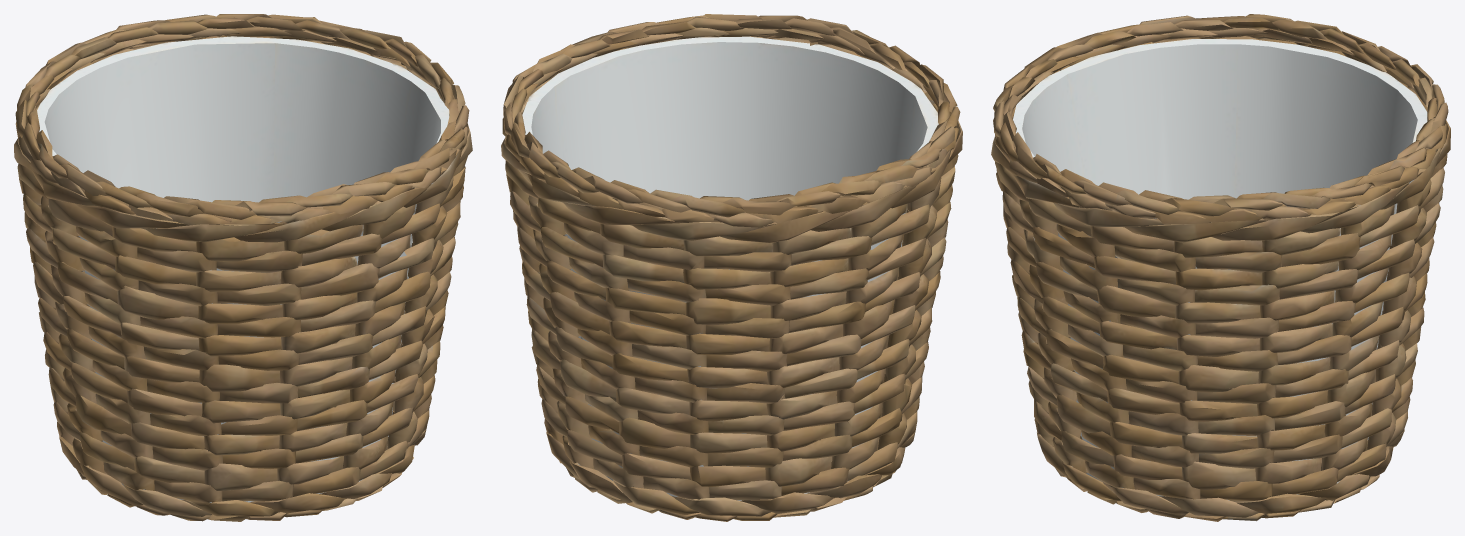
The model's file is 02 - FRIDFULL Plant pot - water hyacinth 12 cm.glb.
The picture shows the model from 3 angles, left to right: view 1: azimuth 30°, elevation 25°; view 2: azimuth 150°, elevation 25°; view 3: azimuth 270°, elevation 25°; orthographic projection.
Visible parts, largest first — view 1: 90155870-FRIDFULL001; view 2: 90155870-FRIDFULL001; view 3: 90155870-FRIDFULL001.
Part boxes in pixels (x1,y1,x2,y2): 90155870-FRIDFULL001: [14, 14, 472, 521]; 90155870-FRIDFULL001: [501, 14, 962, 521]; 90155870-FRIDFULL001: [991, 14, 1450, 521].
Bounding box in the file's own units: 0.1514 × 0.1278 × 0.1511.
1 material, 1 textured.
